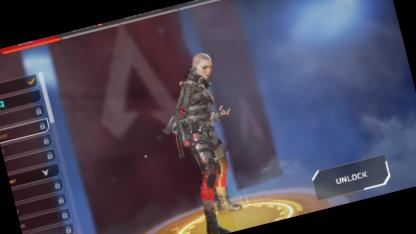Target: (160, 49, 242, 203)
